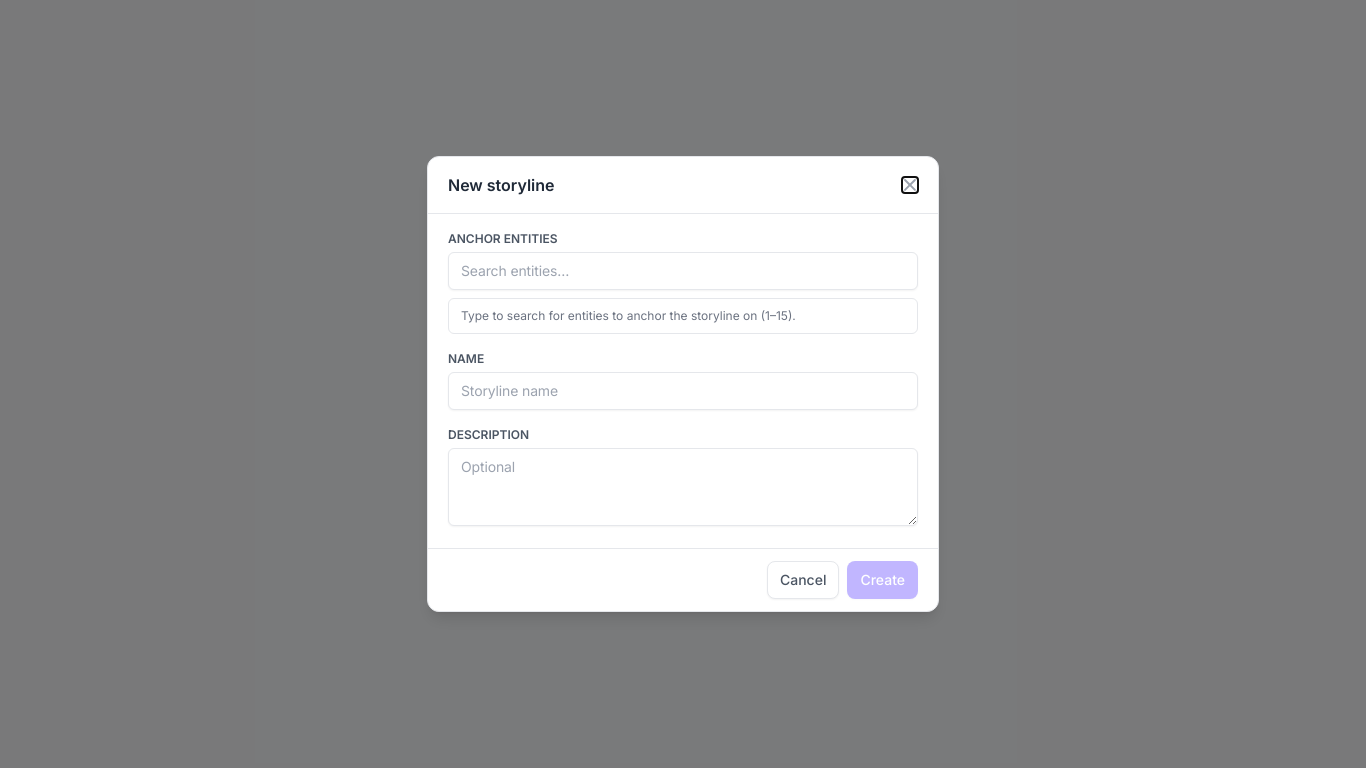
Test: StorylineCreateModal › Submit is enabled once an entity is picked and name is non-empty
This screenshot has width=1366, height=768.
Type "r" into the search field with test id "storyline-entity-search" at (683, 271), box [448,252,918,290]
Wait 260 ms
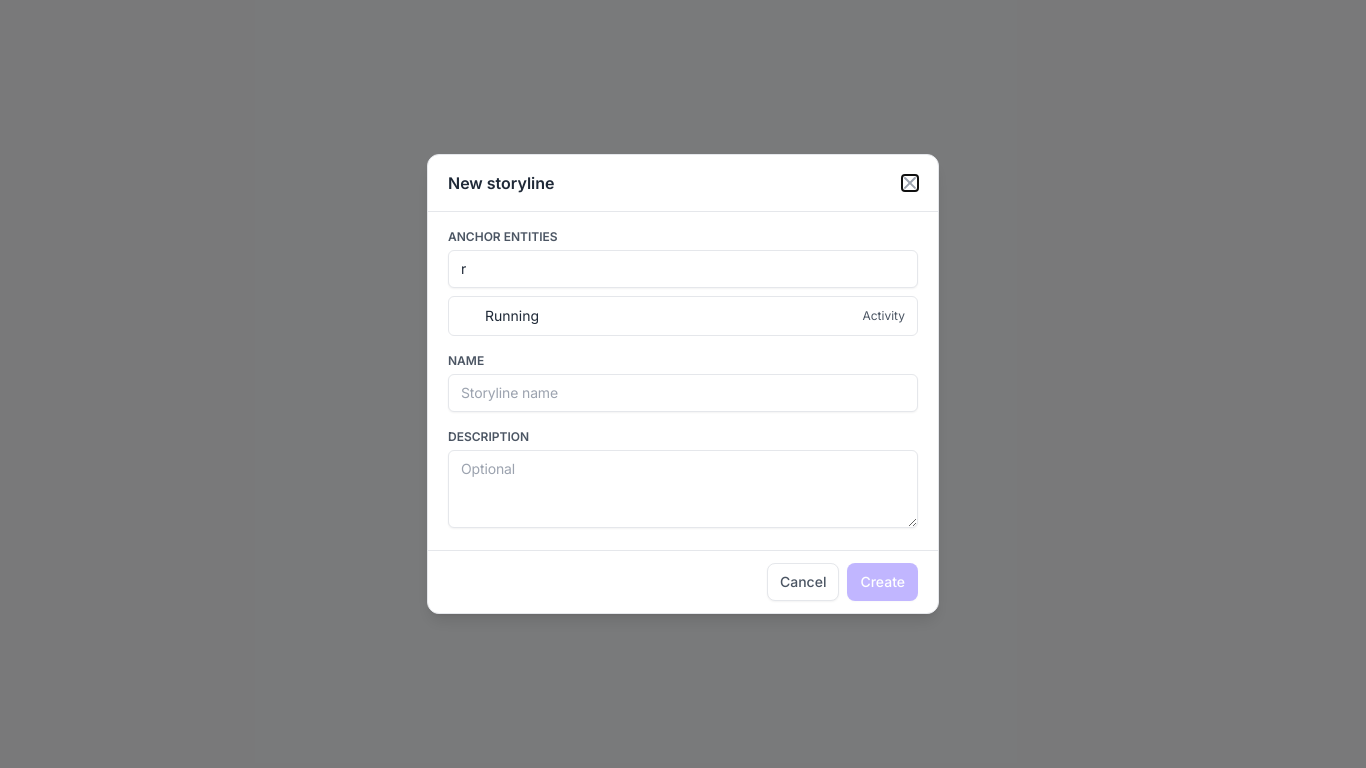
Click the list item with test id "storyline-entity-result" at (512, 316), box [485,307,905,324]
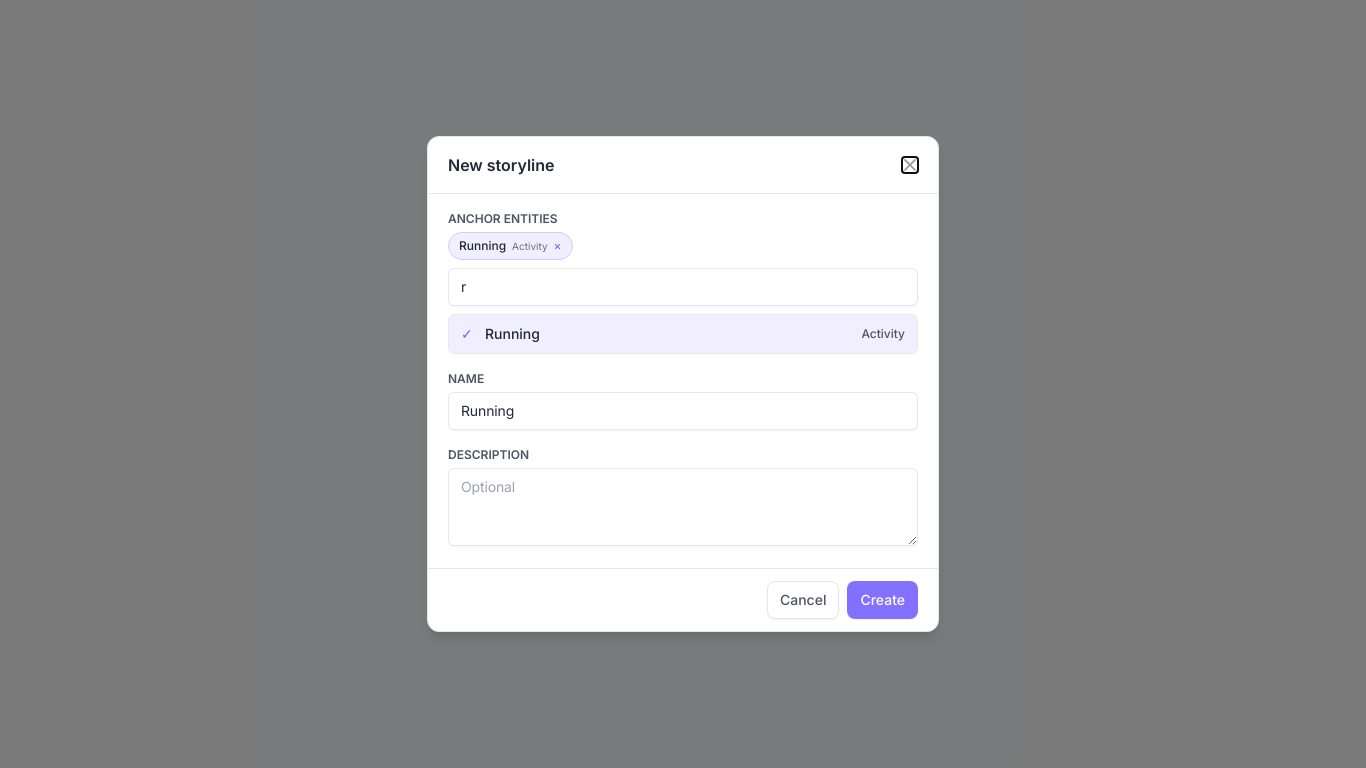
Expected: the button with test id "storyline-create-submit" is enabled, [847,581,918,619]
